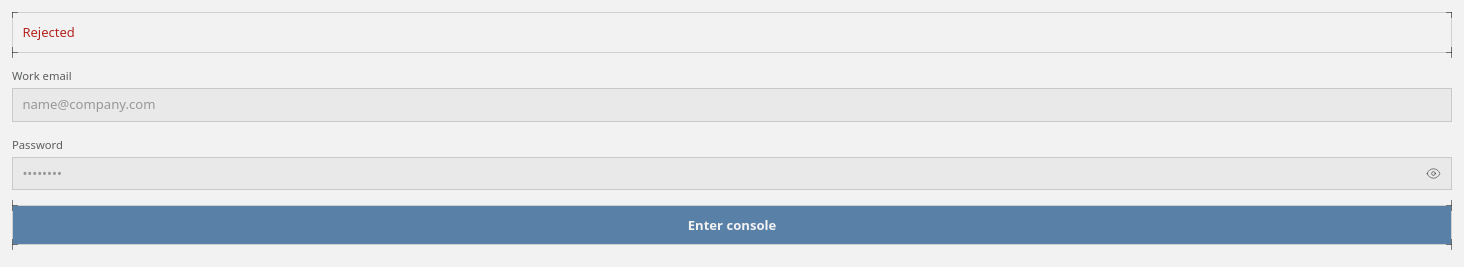
Test: LoginForm › announces a supplied failure and clears it once the input changes
This screenshot has width=1464, height=267.
Expected: the message reads "Rejected", [22,23,75,41]
Type "a" into the field labelled "Work email".
click(732, 105); type("a")  # box [12,88,1452,122]
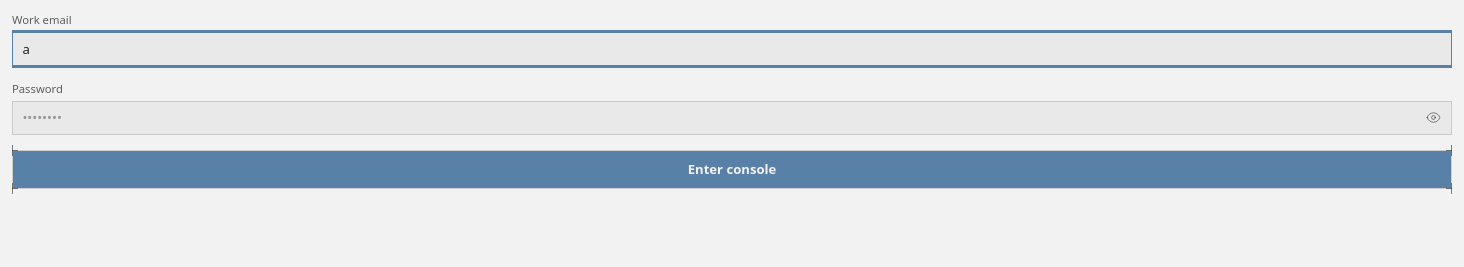
Now the message "Rejected" is gone
